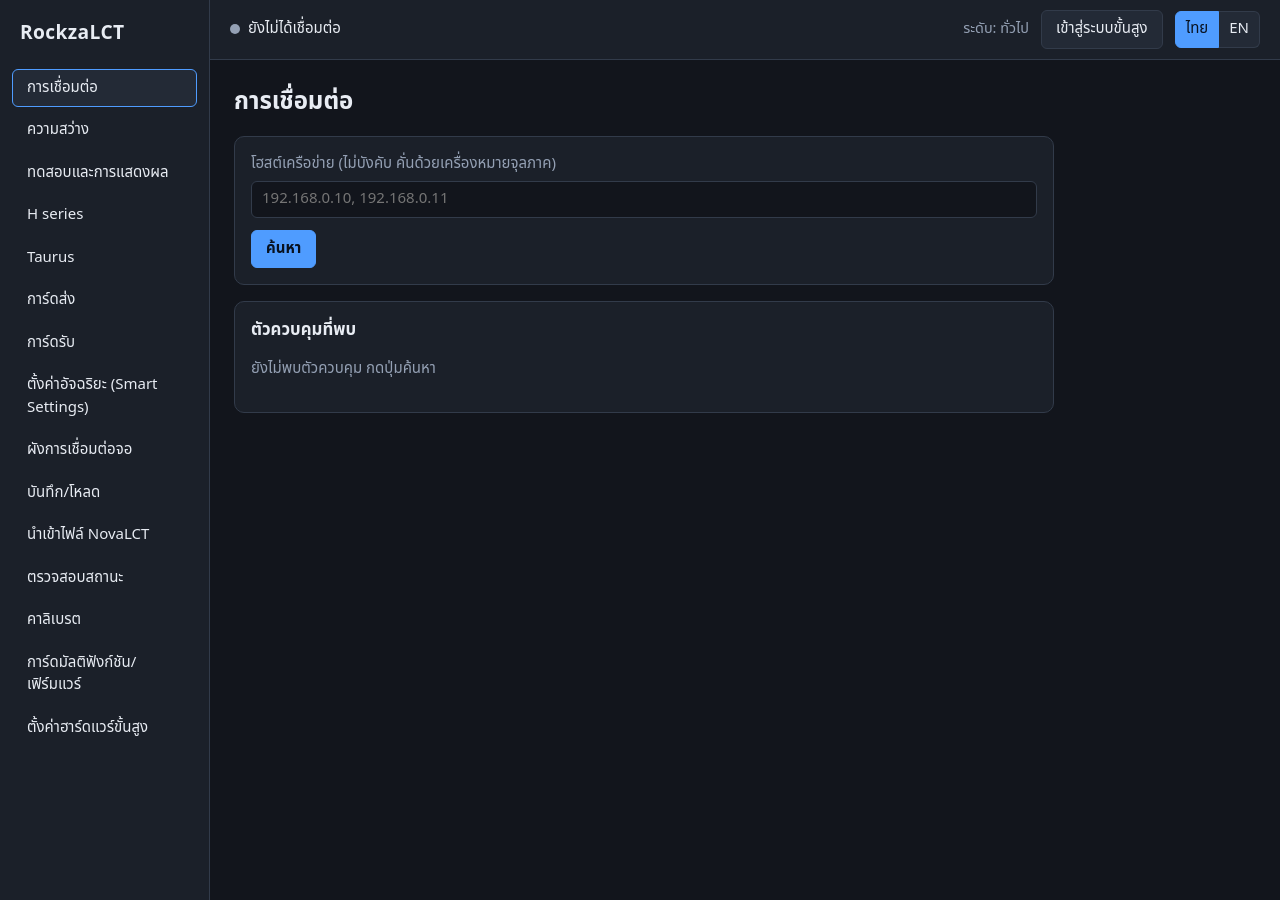
it: SmartSettingsPage › shows the out-of-scope note in Thai too
Click the button "ตั้งค่าอัจฉริยะ (Smart Settings)" at (104, 397), box [12,366,197,427]
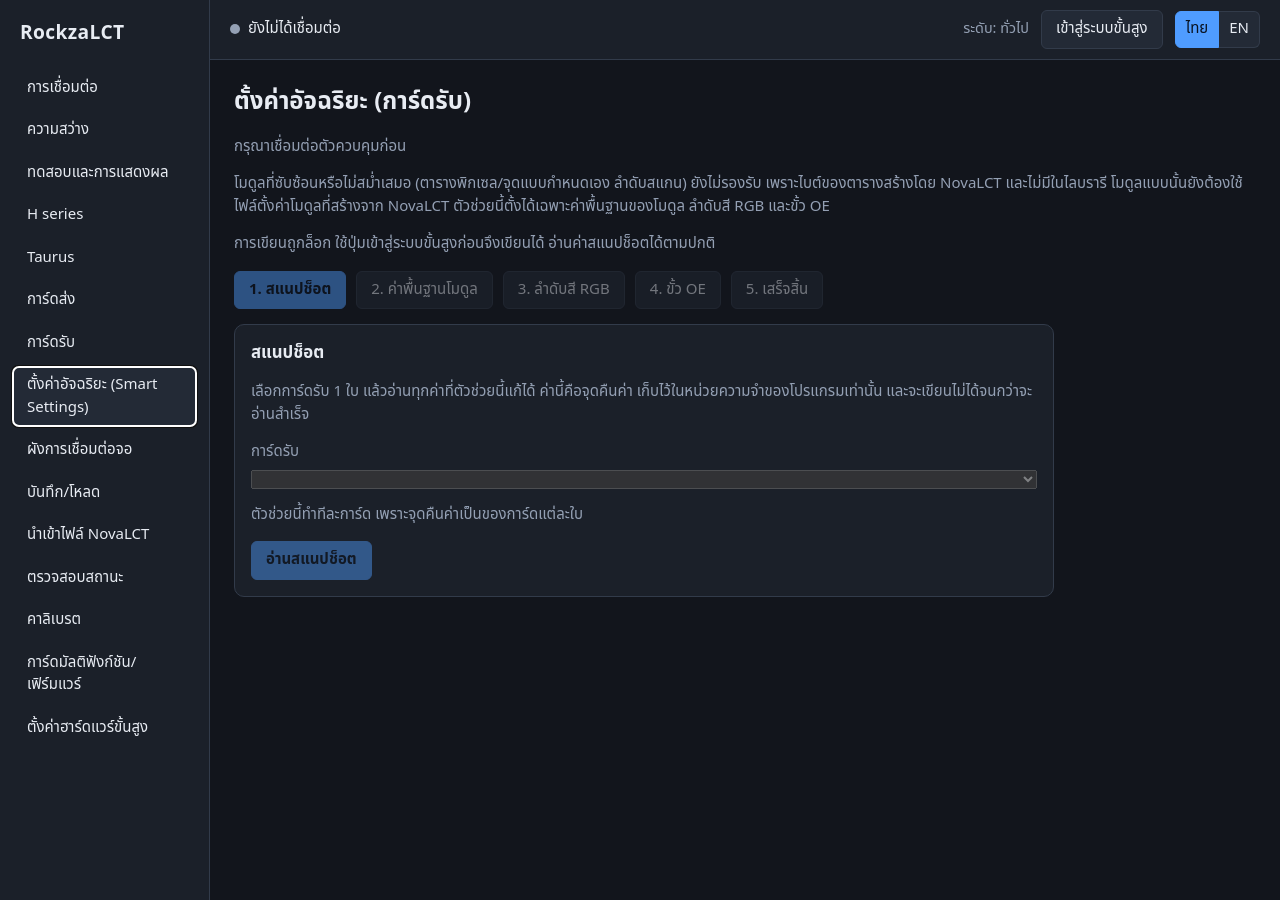
Check: the text with test id "smart-limit-note" shows "NovaLCT", box [234,172,1243,218]
Check: the text with test id "smart-limit-note" shows "ไฟล์ตั้งค่าโมดูล", box [234,172,1243,218]
